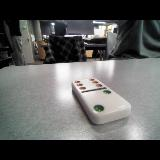domino: (72, 79, 131, 124)
